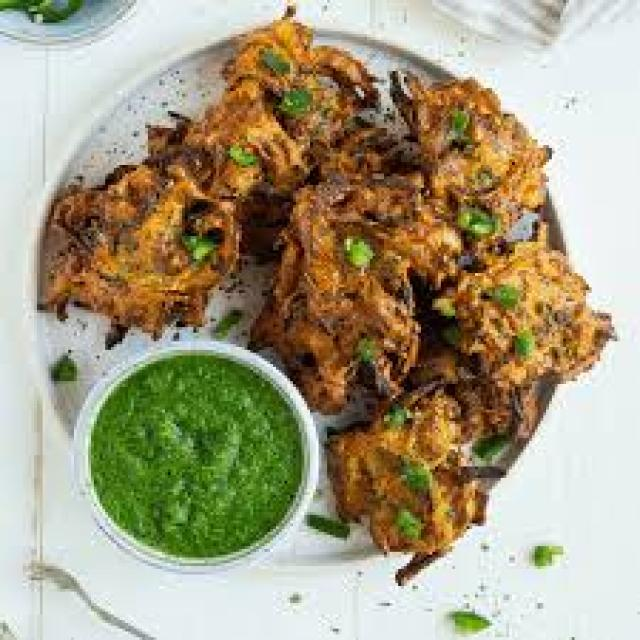BAJI: (48, 9, 612, 552)
